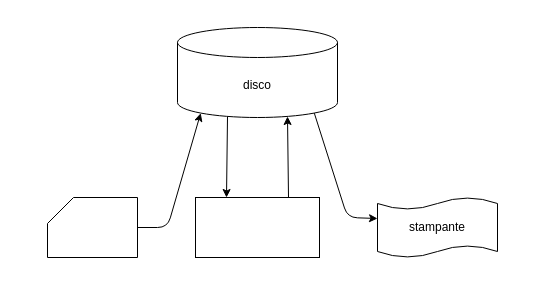
Some shapes in this 544 by 294 pixel diagram are drawn without their labels. Each missing label, with the centre of its shape:
"CPU - RAM" goes at (257,227).
"lettore di schede" goes at (92,227).
